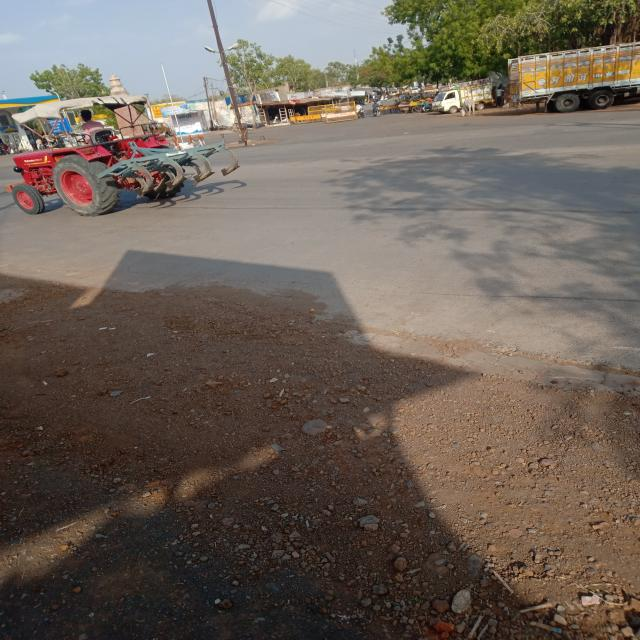Tractor: (7, 92, 205, 213)
